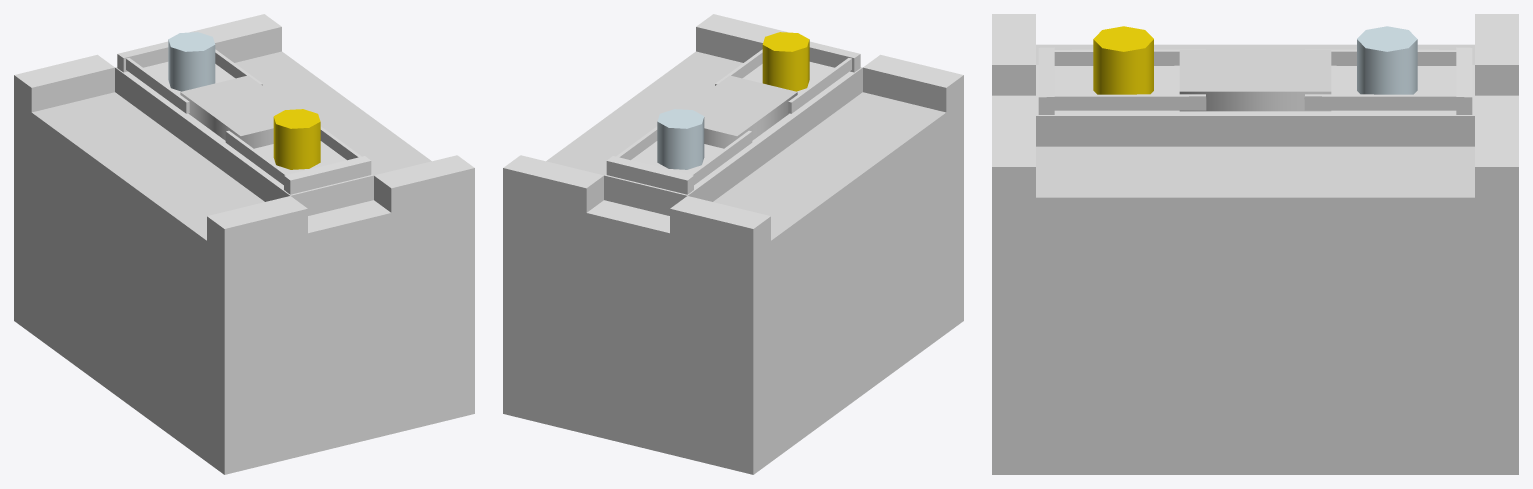
The model's file is battery_a.fbx.
The picture shows the model from 3 angles, left to right: view 1: azimuth 30°, elevation 25°; view 2: azimuth 150°, elevation 25°; view 3: azimuth 270°, elevation 25°; orthographic projection. The views are drawn at different scales.
Parts seen in each view (by area): view 1: battery_a; view 2: battery_a; view 3: battery_a.
Boxes of the visible parts, x1,y1,x2,y2 form: battery_a: (14,14,474,474); battery_a: (503,14,963,474); battery_a: (992,14,1518,474).
Size of the model in its own units: 0.3436 by 0.3763 by 0.5.
